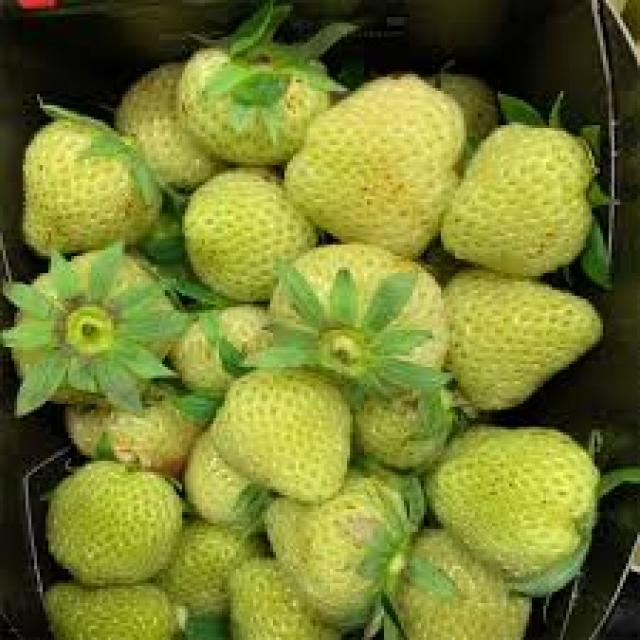immature: (286, 76, 468, 256), (428, 428, 600, 585), (269, 247, 442, 396), (442, 128, 598, 280), (0, 260, 175, 393), (265, 476, 412, 626), (443, 274, 602, 412), (23, 116, 162, 260), (181, 39, 330, 165), (211, 368, 352, 501), (184, 168, 318, 304), (49, 462, 184, 585)
